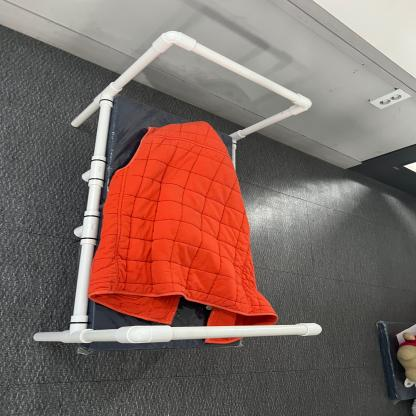np: (47, 21, 336, 363)
